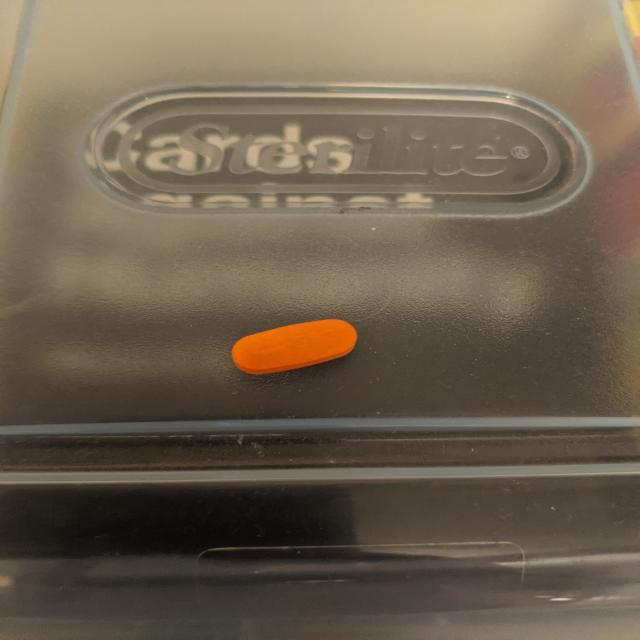non-organic waste: (231, 318, 359, 376)
